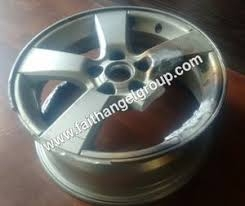metal: (6, 3, 233, 206)
